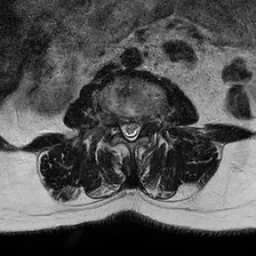CCS_normal: (126, 114, 133, 145)
LFS_stenosis: (141, 109, 149, 132)
LLS_normal: (134, 115, 141, 139)
RFS_normal: (110, 108, 118, 130)
RLS_normal: (118, 114, 126, 137)
